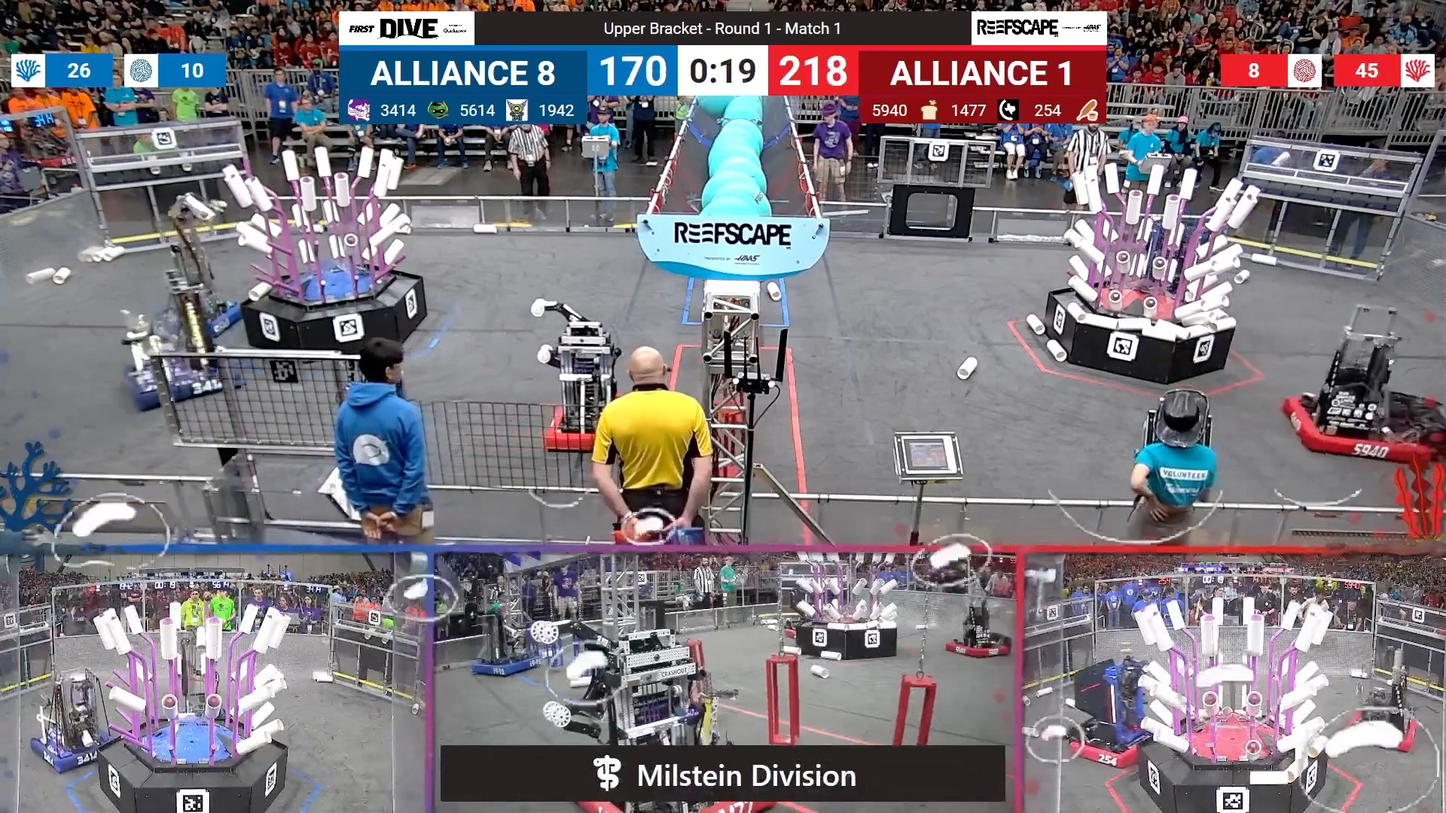bumpers: (1269, 393, 1440, 471), (118, 350, 248, 408), (27, 727, 121, 775), (1337, 705, 1423, 757), (1066, 725, 1162, 769), (540, 407, 614, 455), (470, 653, 549, 681), (946, 635, 1018, 662)
